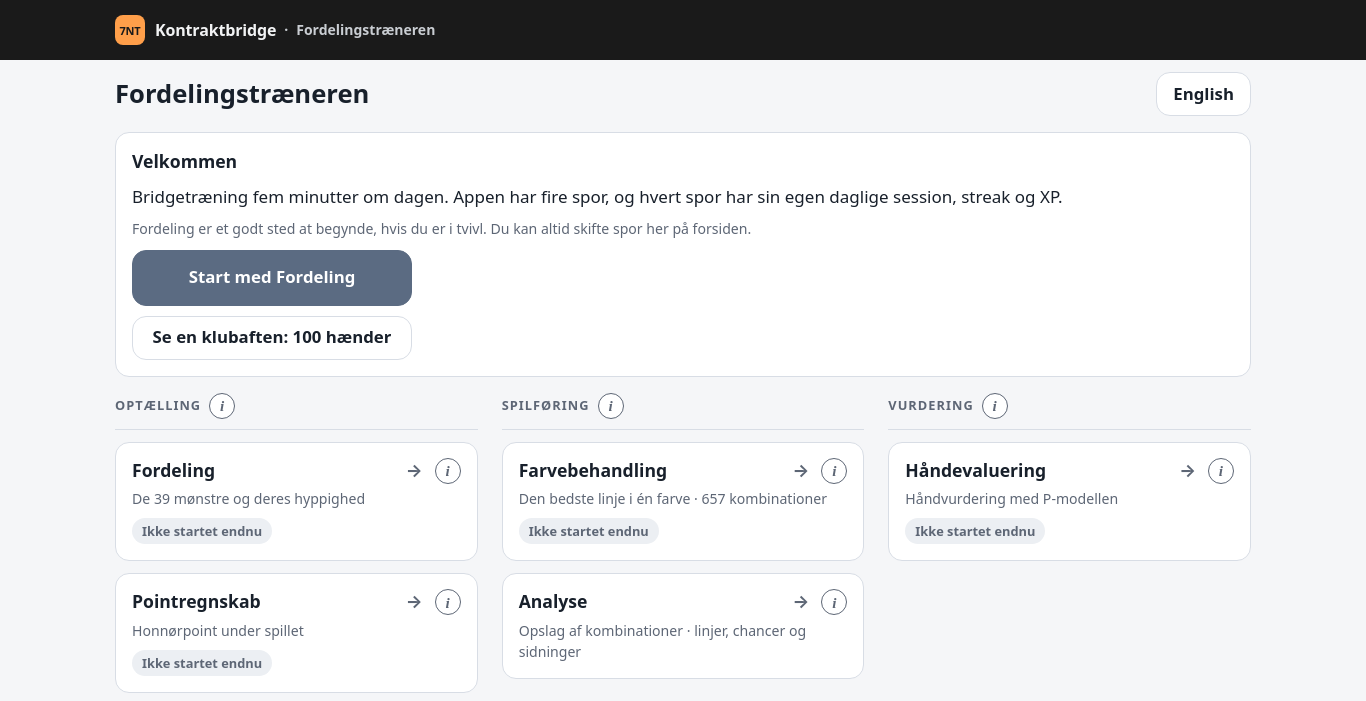
Scenario: Håndevaluering › åbnes fra forsidens menupunkt i Vurdering med ⓘ og går tilbage igen; et kig skriver intet
Expected: the button named "Hjælp: Håndevaluering" is shown, x1=1208 y1=458 x2=1234 y2=484
Expected: the button named "Hjælp: Vurdering" is shown, x1=982 y1=392 x2=1008 y2=418
Click the button "Håndevaluering" at (1070,501), box x1=888 y1=442 x2=1251 y2=561
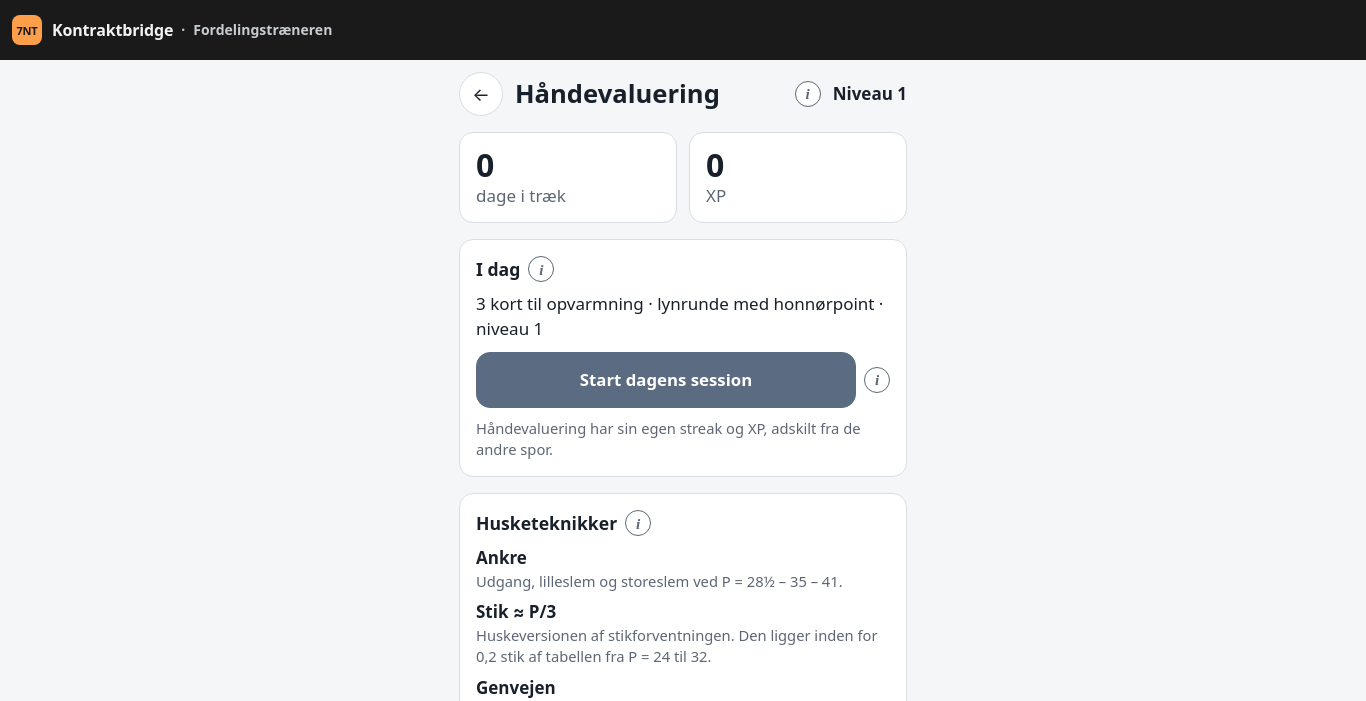
Now the heading "Håndevaluering" is shown, box x1=515 y1=76 x2=720 y2=111
Now the button "Start dagens session" is shown, box x1=476 y1=352 x2=856 y2=408
Click the button named "Tilbage til forsiden" at (481,94), box x1=459 y1=72 x2=503 y2=116
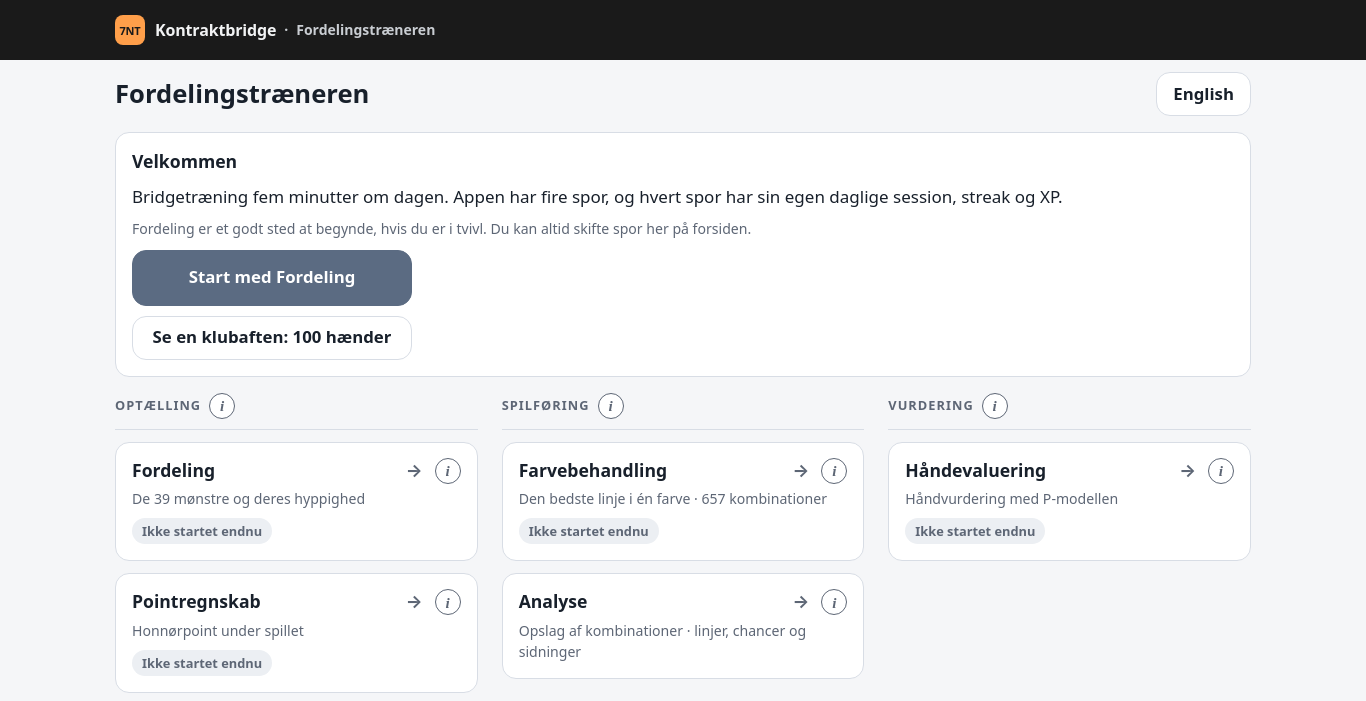
Now the button "Håndevaluering" is shown, box x1=888 y1=442 x2=1251 y2=561
